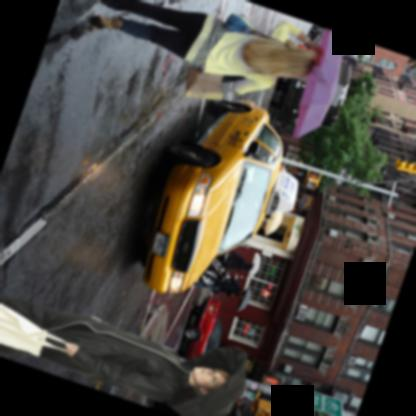handbag: (0, 302, 69, 356), (184, 66, 237, 100), (223, 13, 283, 43)
